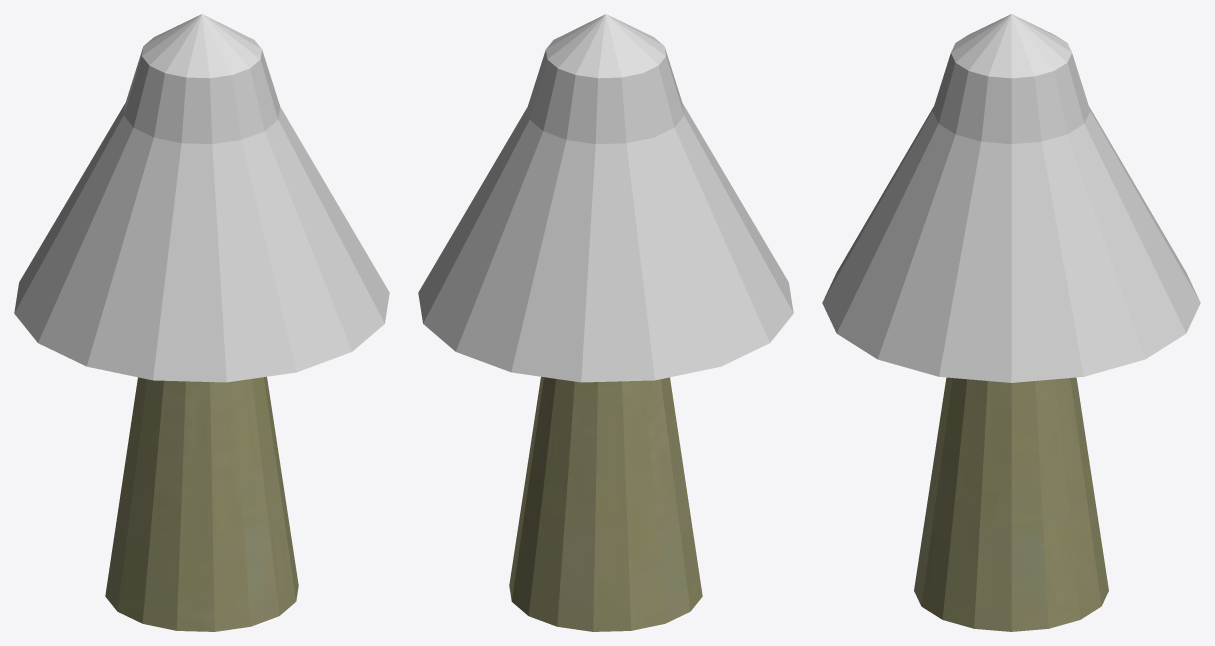
File: mushroom.fbx
The picture shows the model from 3 angles, left to right: view 1: azimuth 30°, elevation 25°; view 2: azimuth 150°, elevation 25°; view 3: azimuth 270°, elevation 25°; orthographic projection.
Parts seen in each view (by area): view 1: Cylinder.001, Cylinder; view 2: Cylinder.001, Cylinder; view 3: Cylinder.001, Cylinder.
Part boxes in pixels (x1,y1,x2,y2): Cylinder.001: (14, 14, 389, 382); Cylinder: (105, 376, 298, 631); Cylinder.001: (418, 14, 793, 382); Cylinder: (509, 376, 702, 631); Cylinder.001: (822, 14, 1200, 382); Cylinder: (914, 377, 1108, 631).
Size of the model in its own units: 388 by 653 by 388.
